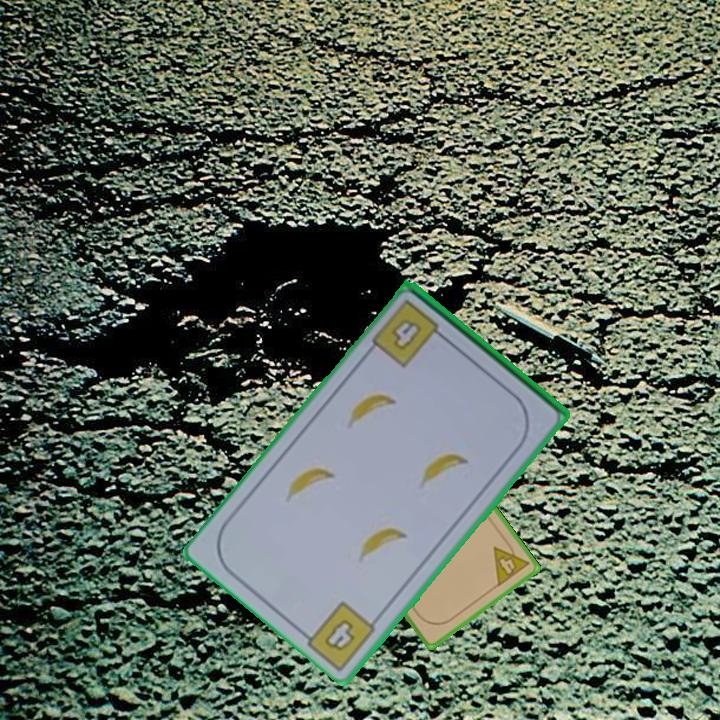4b: (368, 296, 451, 371), (320, 615, 358, 655)
4p: (490, 535, 532, 589)
